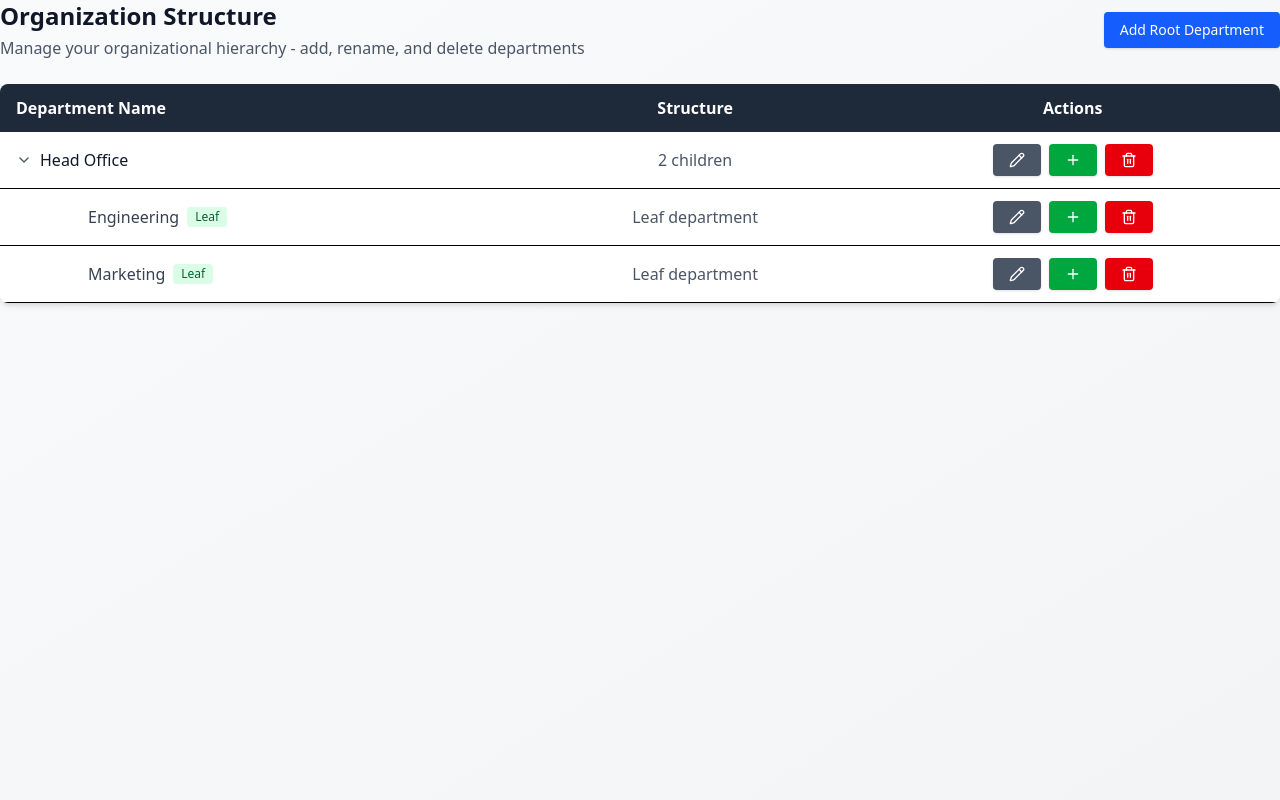
Scenario: OrganizationStructure Integration › Add Child Department › should open modal when Add Child button is clicked
Expected: the text "Engineering" is shown, [88,205,179,229]
Click the button titled "Add Child Department" in the row of "Head Office".
click(1073, 160)  # box [1049,144,1097,176]
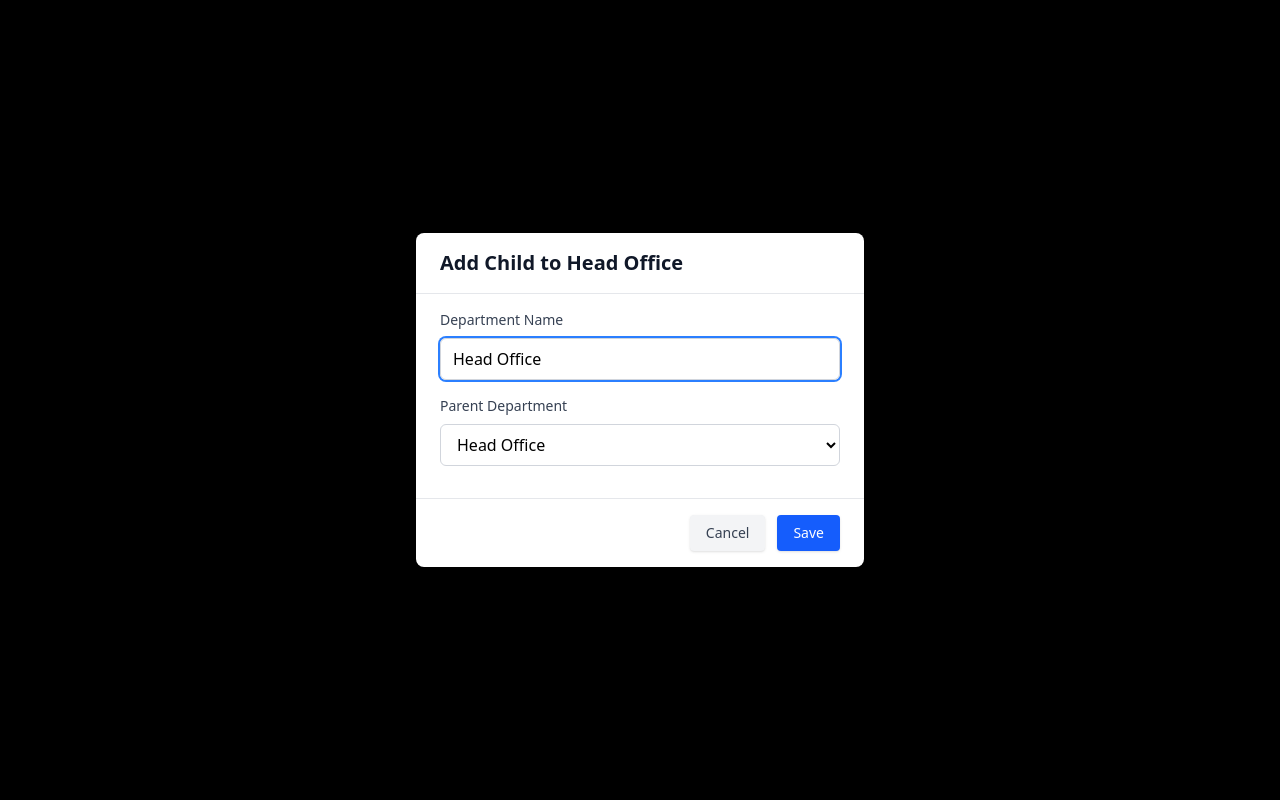
Expected: the heading "Add Child to Head Office" is shown, [440,249,683,276]
